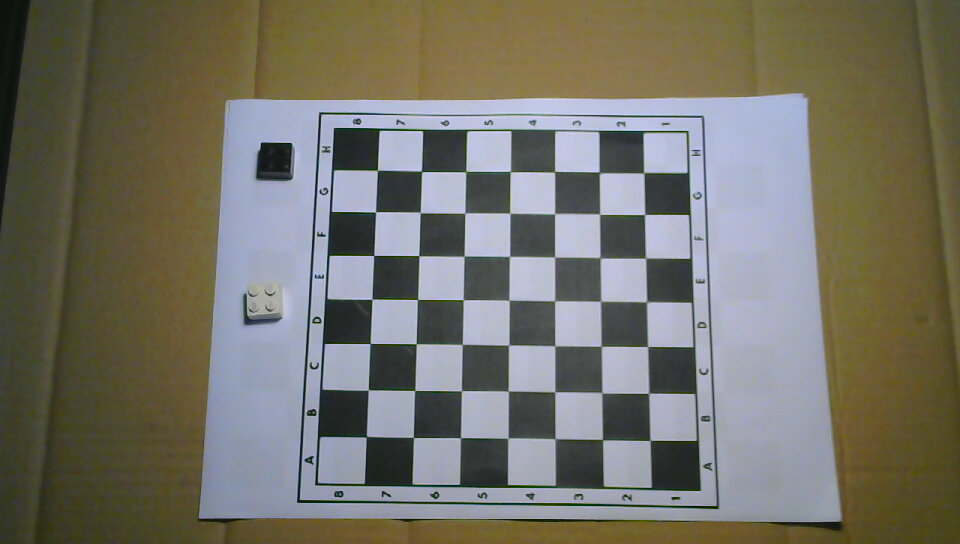bp: (256, 139, 297, 182)
wp: (242, 282, 285, 324)
